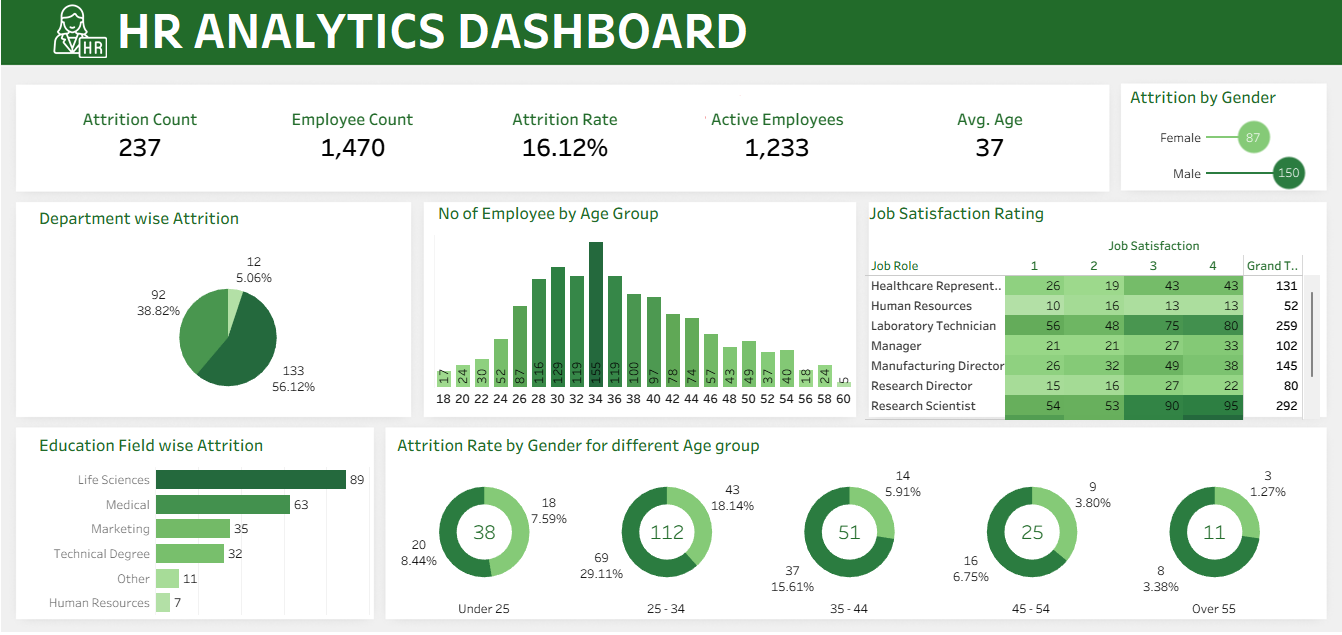

Layout of this report page (visuals, bound fields, positions):
{"tool":"tableau","page":{"name":"HR Analytics Dashboard","canvas":[1000,1000],"units":"permille","ordinal":0},"visuals":[{"type":"image","param":"C:/Users/acer/Downloads/HR.png","box":[6.9,14.7,986.1,970.6]},{"type":"text","box":[91.8,40.4,698.7,95.6]},{"type":"image","param":"C:/Users/acer/Downloads/hr-manager.png","box":[46.8,53.3,53.7,77.2]},{"type":"worksheet","title":"Attrition by Gender","mark":"Bar","rows":["Gender"],"cols":["Calculation_0755107502329856","Calculation_0755107502329856"],"box":[832,165.4,135.1,156.2]},{"type":"worksheet","title":"KPI","mark":"Automatic","box":[32.9,176.5,777.5,150.7]},{"type":"worksheet","title":"No of Employee by Age Group","mark":"Automatic","rows":["Employee Count"],"cols":["Age (bin)"],"box":[325.5,330.9,307.4,301.5]},{"type":"worksheet","title":"Job Satisfaction Rating","mark":"Square","rows":["Job Role"],"cols":["Job Satisfaction"],"box":[641.6,330.9,333.3,318]},{"type":"worksheet","title":"Department wise Attrition","mark":"Pie","box":[33.8,338.2,282.2,332.7]},{"type":"worksheet","title":"Education Field wise Attrition","mark":"Automatic","rows":["Education Field"],"cols":["Calculation_0755107502329856"],"box":[33.8,663.6,252.8,264.7]},{"type":"worksheet","title":"Attrition Rate by Gender for different Age group","mark":"Pie","rows":["Calculation_0576437149380609","Calculation_0576437149380609"],"cols":["CF_age band"],"box":[296.1,663.6,668.4,277.6]}]}

Visuals, with their boxes on the dashboard's canvas, which has no fixed pixel size, in thousandths of its width and height (x1, y1, x2, y2). These are canvas units, not pixel positions in the 1342x635 screenshot, which may show the page scaled, cropped or inside an application window:
image: bbox(7, 15, 993, 985)
text: bbox(92, 40, 790, 136)
image: bbox(47, 53, 100, 130)
"Attrition by Gender" worksheet (Bar marks): bbox(832, 165, 967, 322)
"KPI" worksheet: bbox(33, 176, 810, 327)
"No of Employee by Age Group" worksheet: bbox(326, 331, 633, 632)
"Job Satisfaction Rating" worksheet (Square marks): bbox(642, 331, 975, 649)
"Department wise Attrition" worksheet (Pie marks): bbox(34, 338, 316, 671)
"Education Field wise Attrition" worksheet: bbox(34, 664, 287, 928)
"Attrition Rate by Gender for different Age group" worksheet (Pie marks): bbox(296, 664, 964, 941)
